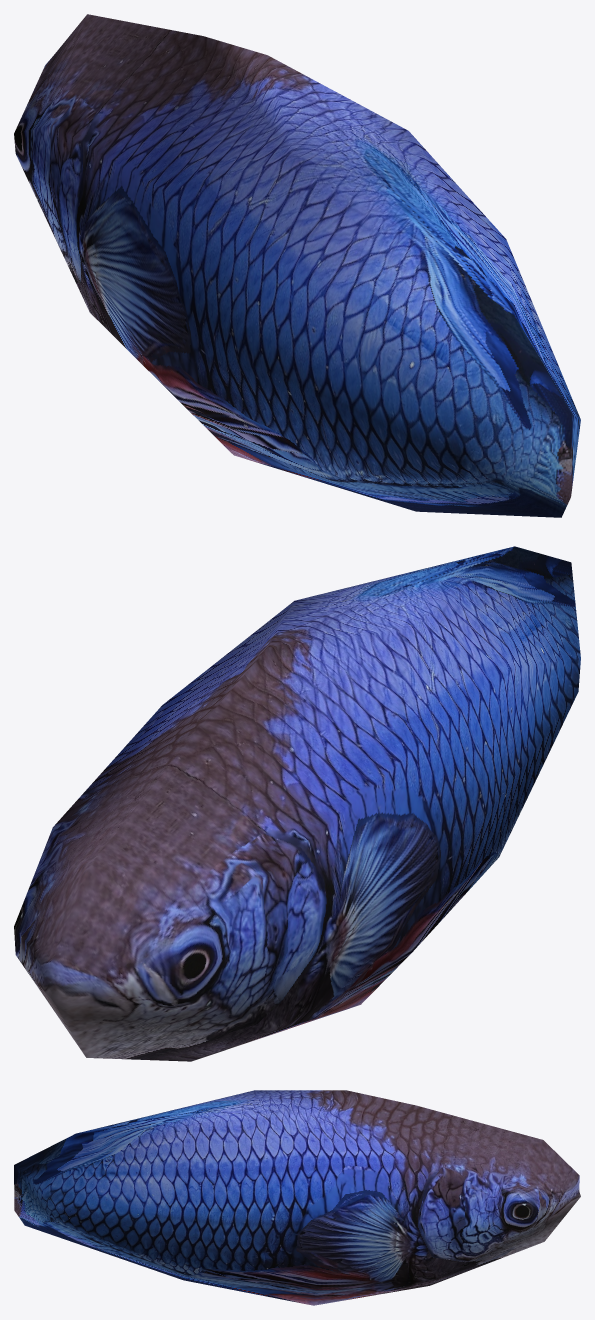
The model's file is fishbody.glb.
3 renders of one model, top to bottom at view 1: azimuth 30°, elevation 25°; view 2: azimuth 150°, elevation 25°; view 3: azimuth 270°, elevation 25°, orthographic. The views are drawn at different scales.
Parts seen in each view (by area): view 1: Icosphere_Baked_Baked_Baked; view 2: Icosphere_Baked_Baked_Baked; view 3: Icosphere_Baked_Baked_Baked.
Boxes of the visible parts, x1,y1,x2,y2 form: Icosphere_Baked_Baked_Baked: [14, 14, 580, 517]; Icosphere_Baked_Baked_Baked: [14, 546, 580, 1061]; Icosphere_Baked_Baked_Baked: [14, 1090, 580, 1305].
Size of the model in its own units: 0.1959 by 0.2782 by 0.6787.
1 material, 1 textured.
